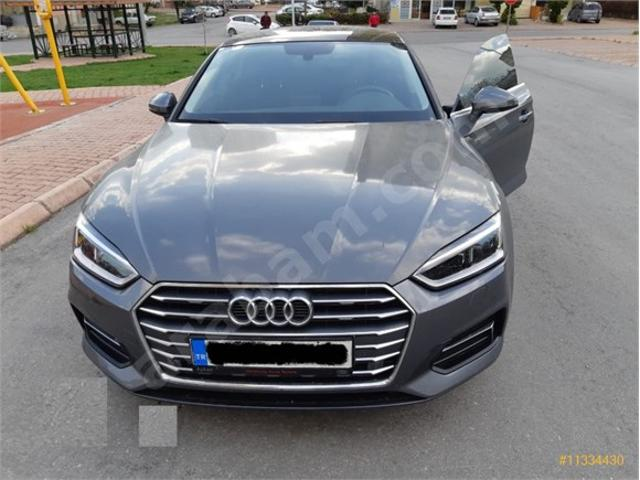audi: (223, 292, 316, 332)
